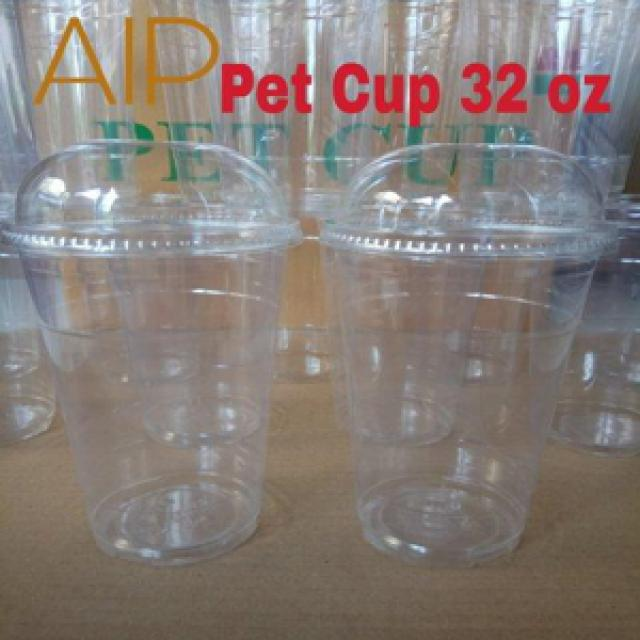plastic cup: (2, 132, 312, 570), (314, 135, 625, 568)
